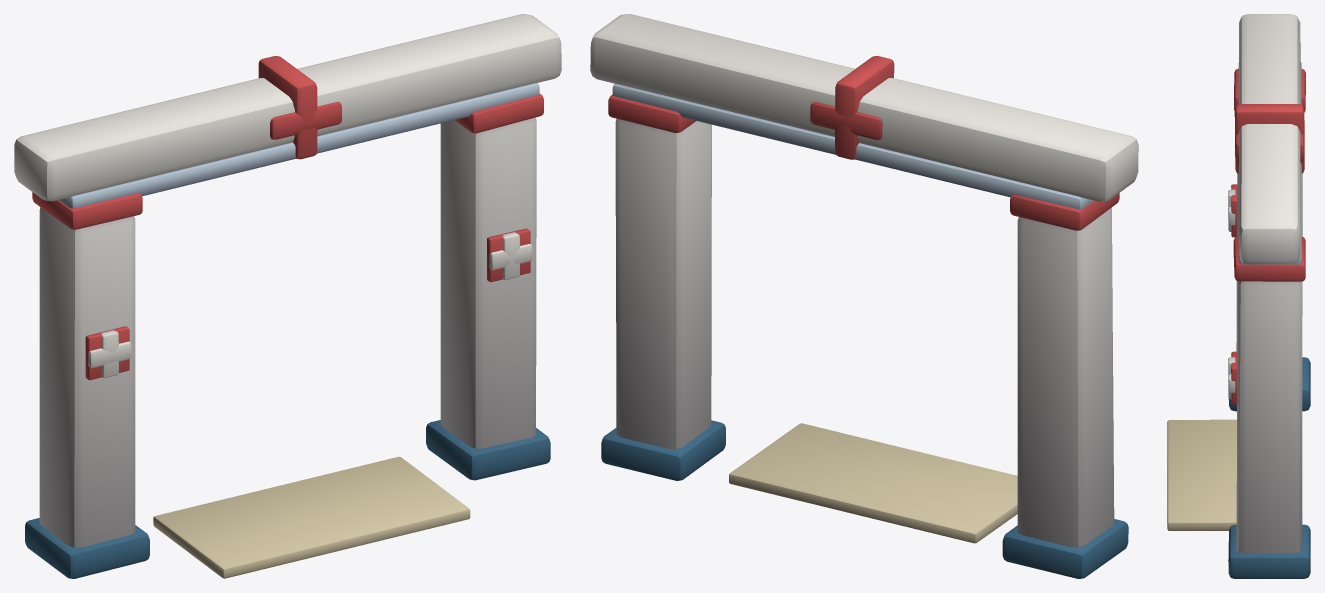
3 renders of one model, left to right at view 1: azimuth 30°, elevation 25°; view 2: azimuth 150°, elevation 25°; view 3: azimuth 270°, elevation 25°, orthographic. The views are drawn at different scales.
Parts seen in each view (by area): view 1: gate_373fb8c0; view 2: gate_373fb8c0; view 3: gate_373fb8c0.
Boxes of the visible parts, bbox=[...] form: gate_373fb8c0: bbox=[14, 14, 561, 578]; gate_373fb8c0: bbox=[590, 14, 1138, 578]; gate_373fb8c0: bbox=[1167, 14, 1310, 578].
Bounding box in the file's own units: 5.04 × 4.04 × 1.4.
